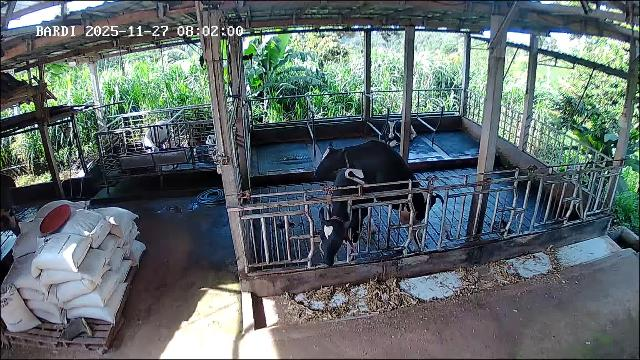mounting: (312, 140, 436, 249)
